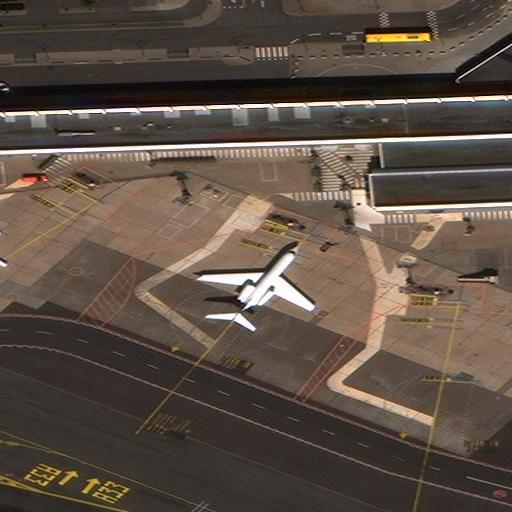Medium Civil Transport: (200, 245, 314, 331)
